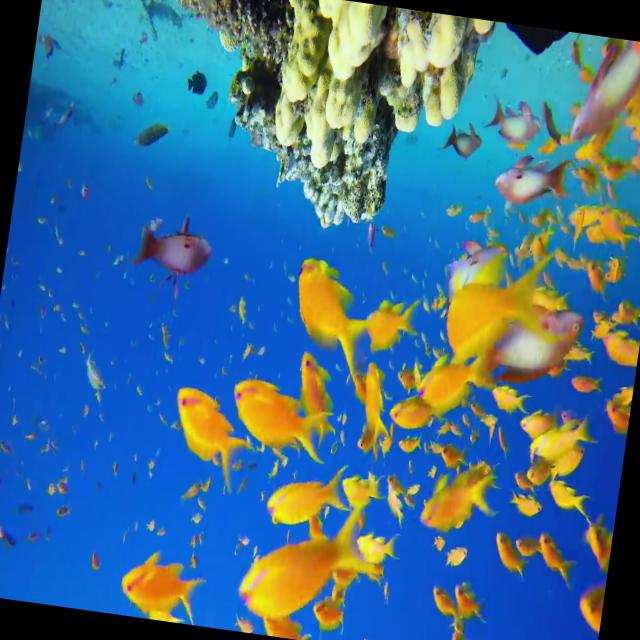fish: (232, 494, 378, 630), (482, 298, 586, 394), (165, 387, 256, 491), (224, 378, 330, 464), (290, 256, 367, 354), (118, 551, 206, 626), (264, 458, 350, 533), (412, 347, 492, 419), (421, 466, 497, 538), (290, 357, 344, 445), (136, 218, 212, 279), (492, 155, 566, 210), (528, 415, 590, 475), (362, 296, 417, 359), (357, 371, 395, 448), (532, 528, 578, 589), (486, 100, 542, 146), (488, 530, 530, 586), (388, 390, 440, 432), (544, 474, 590, 518), (590, 206, 638, 248), (354, 534, 398, 574), (338, 474, 381, 512), (537, 104, 570, 150), (444, 126, 484, 160), (383, 478, 409, 524), (506, 491, 544, 520), (445, 542, 469, 571)
